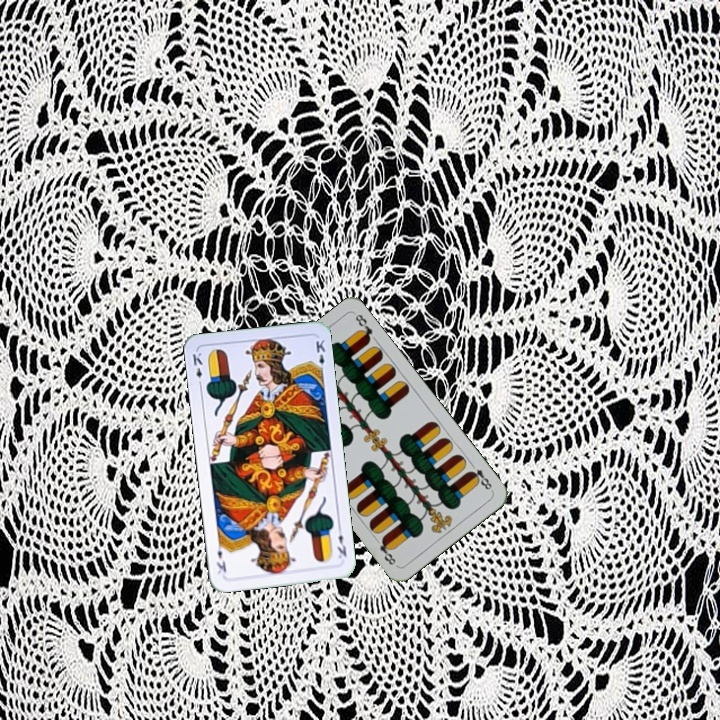E8: (465, 459, 495, 494)
EK: (188, 348, 205, 389), (333, 523, 349, 561)
